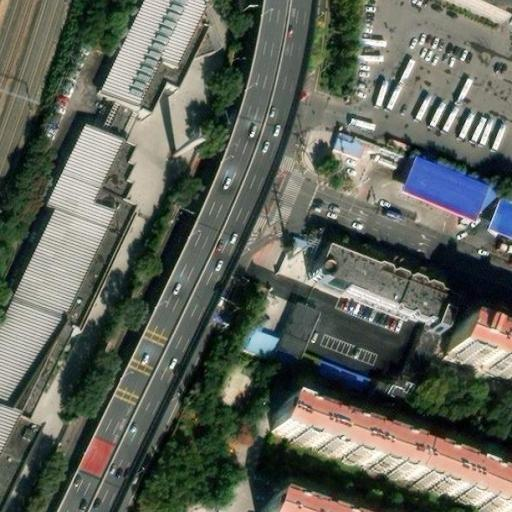building: (267, 399, 512, 512), (304, 247, 438, 323), (40, 132, 121, 244), (394, 167, 482, 230), (438, 327, 512, 386), (261, 486, 355, 512), (71, 428, 118, 480), (309, 355, 369, 390), (281, 300, 320, 342), (277, 237, 315, 278), (481, 204, 512, 246), (329, 127, 365, 156), (432, 329, 448, 350)
